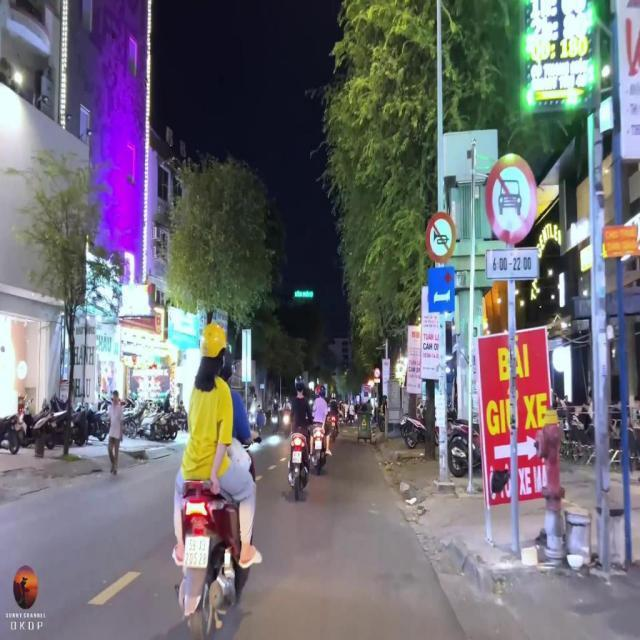103a-cam-oto: (486, 156, 538, 240)
128-cam-su-dung-coi: (426, 210, 456, 262)
